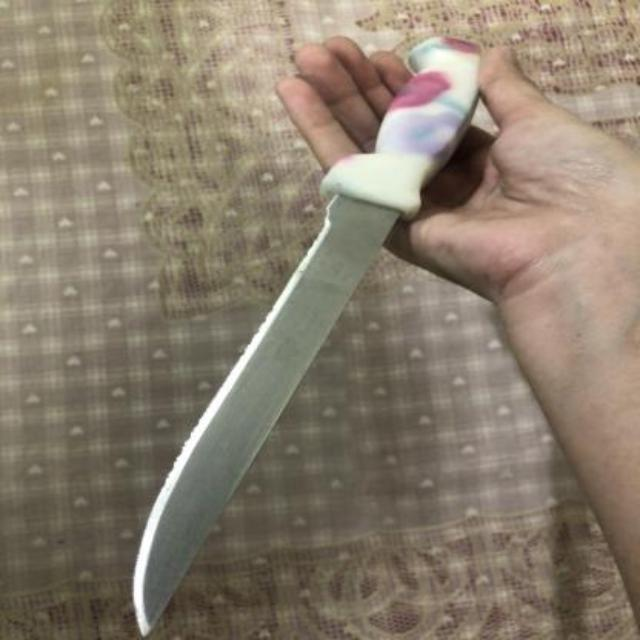Knife: (132, 38, 486, 634)
